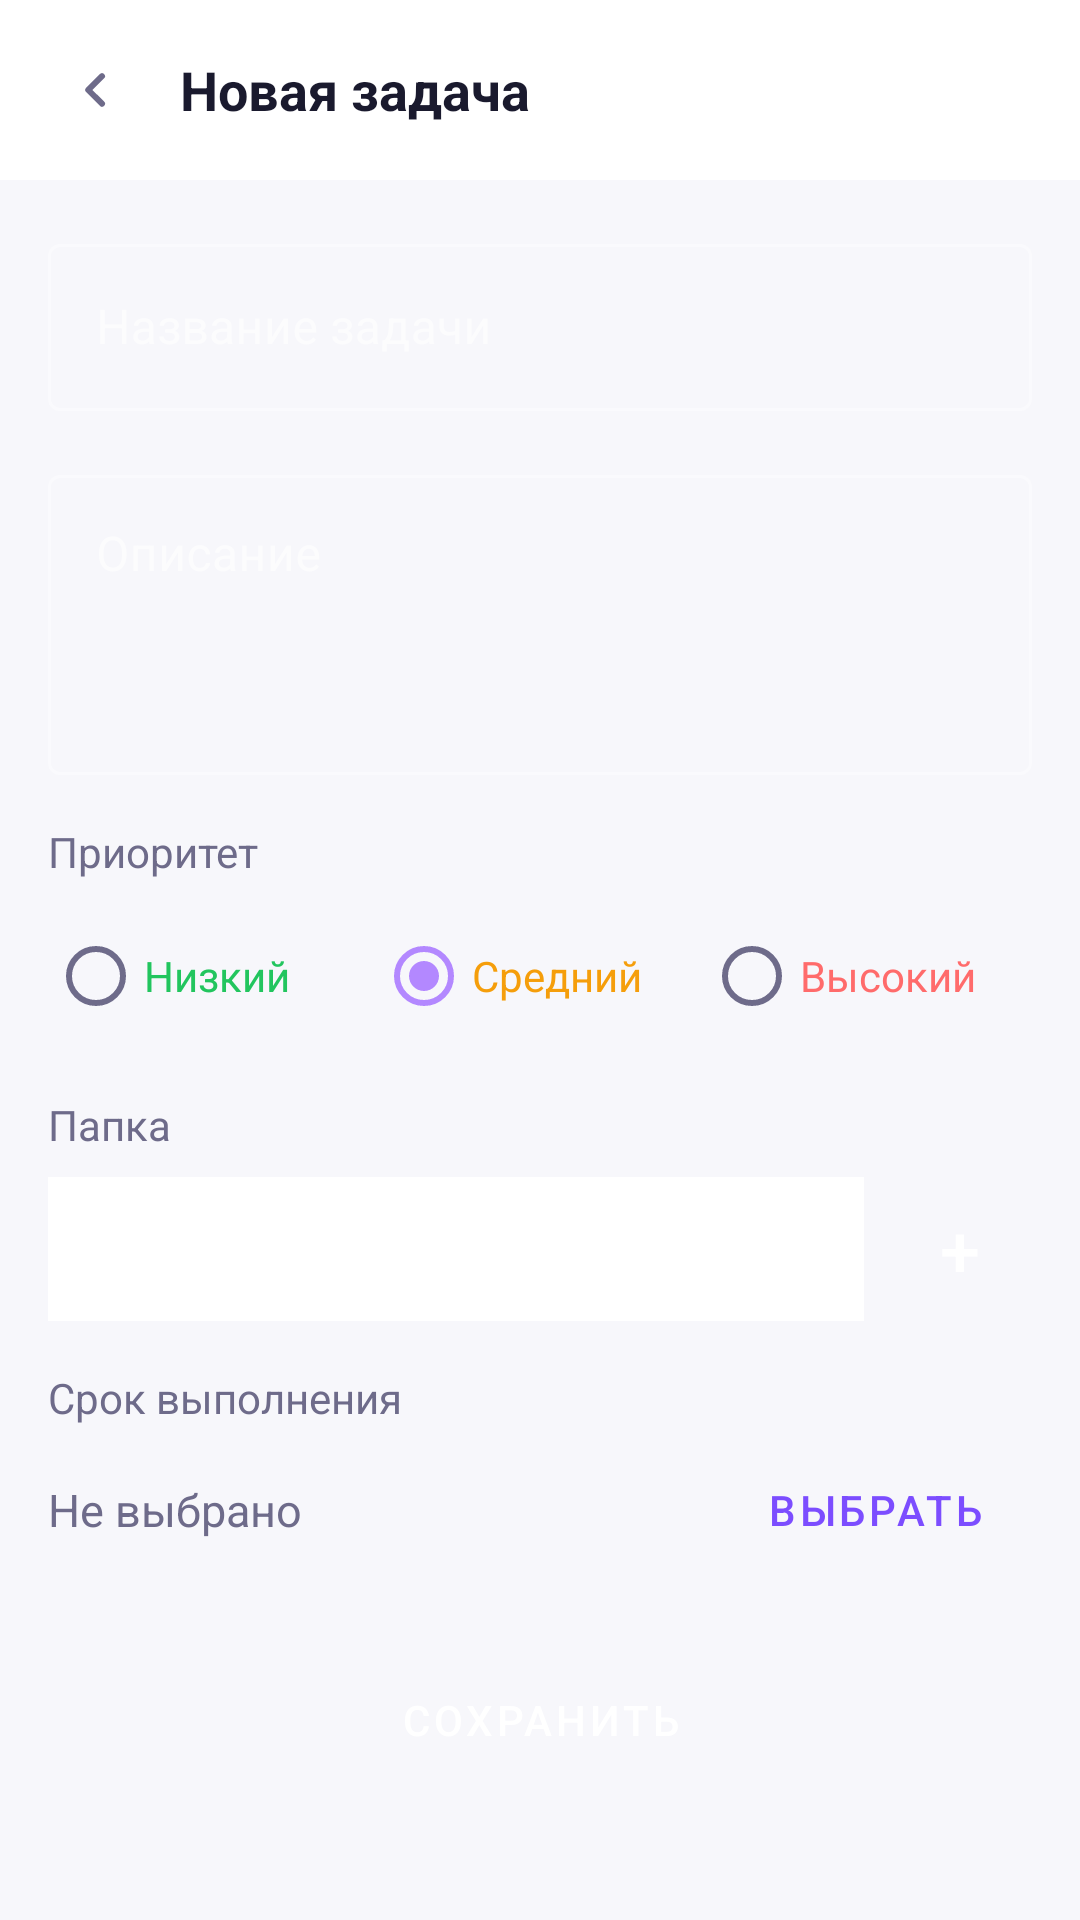

Icons on this 1080w x 1920h Android screen, each with the point to tap as (x=x, y=y):
back: (x=95, y=90)
